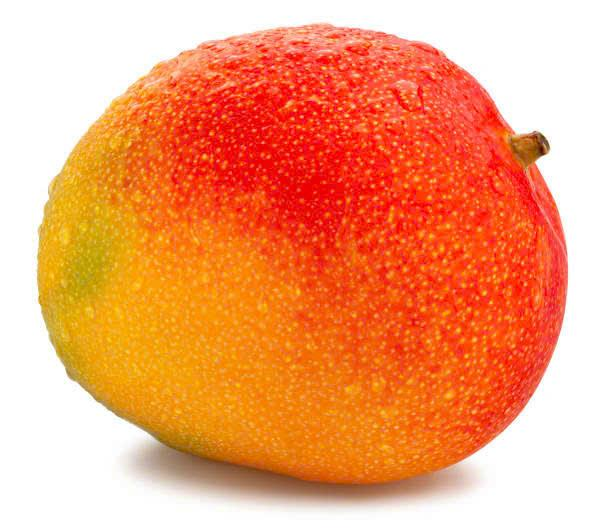mango: (32, 12, 587, 484)
